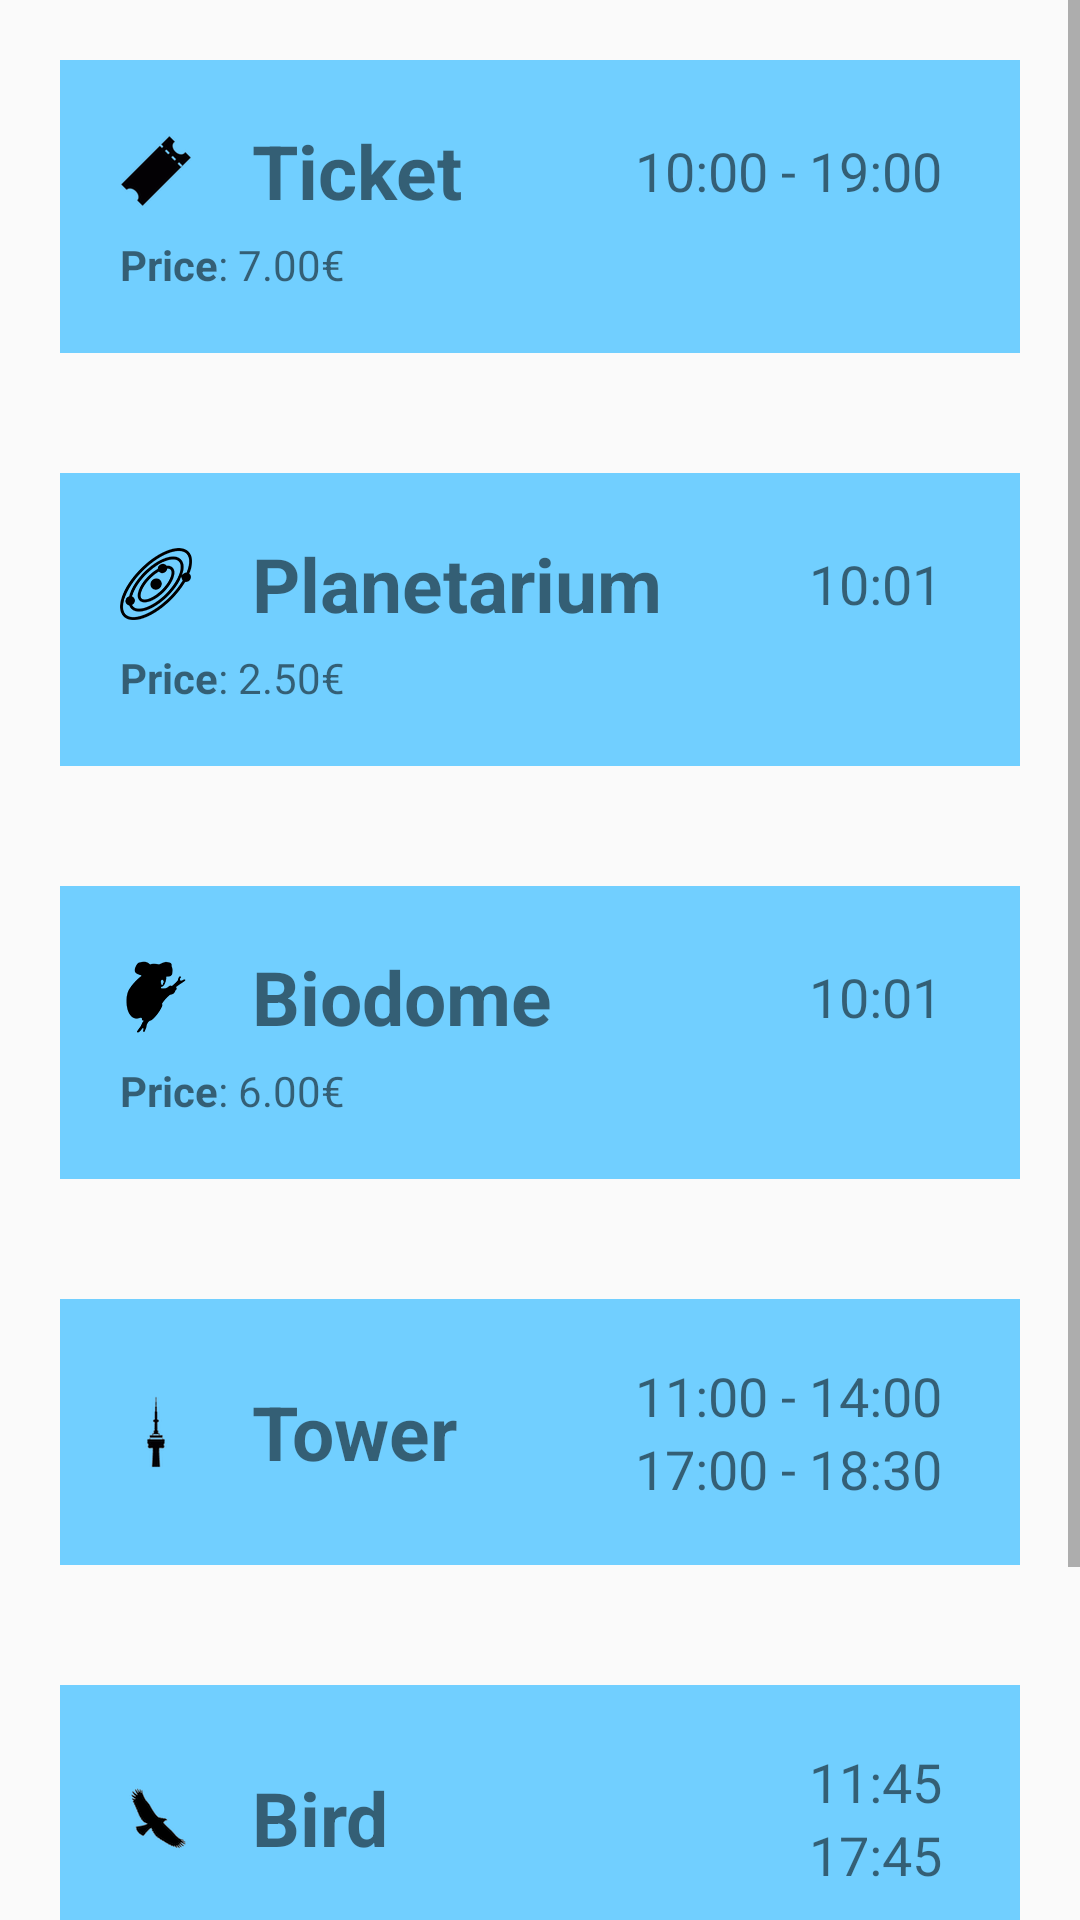

Icons on this 1080 × 1920 Android screen, each with the point to tap as (x,y):
ave: (158,1818)
entrada: (156,171)
torre: (156,1432)
